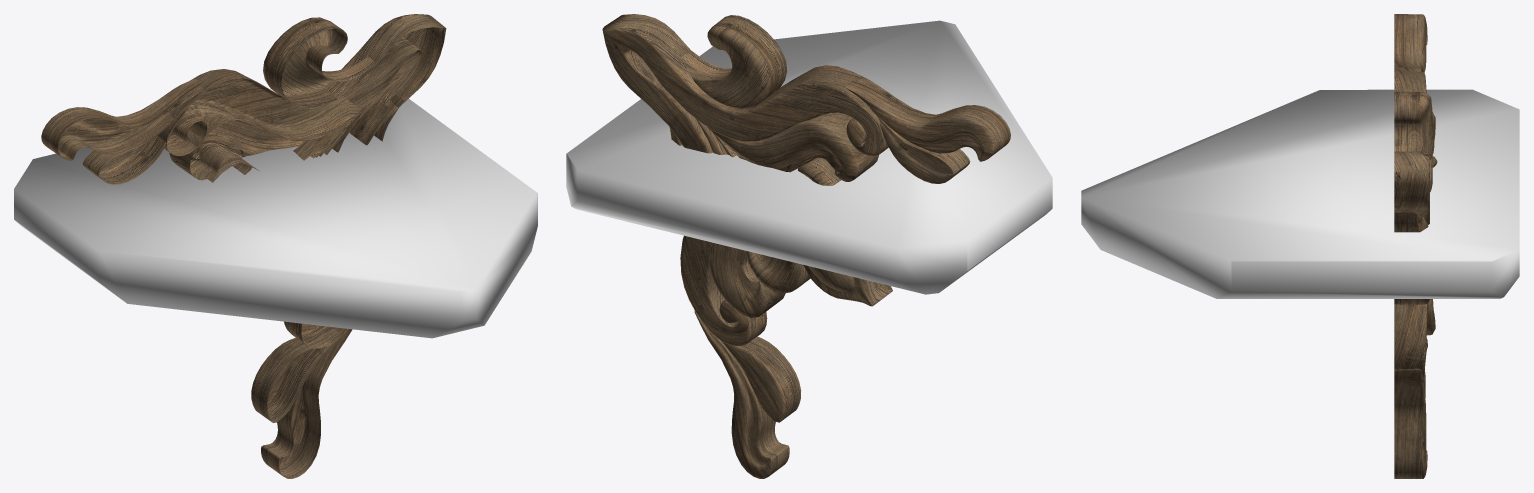
The model's file is SM_Ornament_A.fbx.
The picture shows the model from 3 angles, left to right: view 1: azimuth 30°, elevation 25°; view 2: azimuth 150°, elevation 25°; view 3: azimuth 270°, elevation 25°; orthographic projection. The views are drawn at different scales.
Visible parts, largest first — view 1: SM_Ornament_A_ConvexHulls, SM_Ornament_A; view 2: SM_Ornament_A_ConvexHulls, SM_Ornament_A; view 3: SM_Ornament_A_ConvexHulls, SM_Ornament_A.
Boxes of the visible parts, x1,y1,x2,y2 form: SM_Ornament_A_ConvexHulls: (14, 99, 537, 338); SM_Ornament_A: (41, 14, 446, 478); SM_Ornament_A_ConvexHulls: (566, 20, 1052, 294); SM_Ornament_A: (602, 14, 1010, 478); SM_Ornament_A_ConvexHulls: (1081, 89, 1519, 298); SM_Ornament_A: (1394, 14, 1437, 478).
Size of the model in its own units: 2.29 by 2.48 by 2.48.
